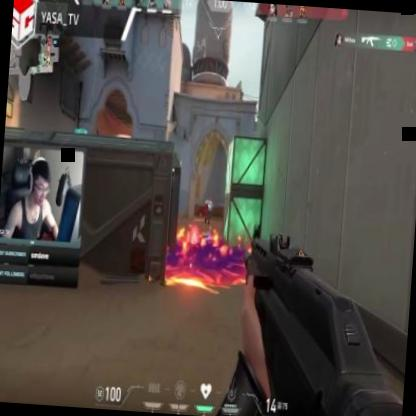enemy: (204, 196, 212, 225)
enemy_head: (208, 196, 212, 204)
